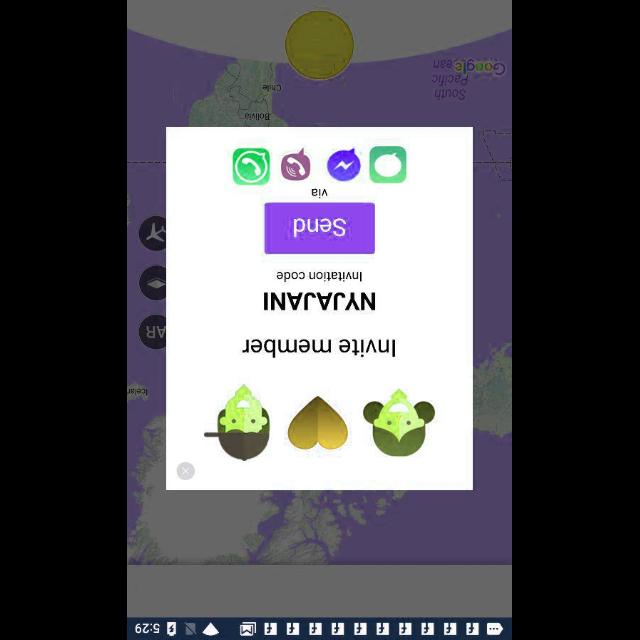icon: (369, 146, 406, 182), (177, 462, 196, 480)
image: (204, 384, 436, 461), (233, 147, 270, 185), (328, 147, 360, 181), (282, 148, 310, 180)
panel: (167, 127, 473, 489)
text: (241, 338, 397, 358), (264, 292, 376, 310), (277, 270, 363, 282), (312, 188, 328, 198)
textbutton: (264, 202, 376, 254)
uppertaskbar: (128, 617, 512, 639)
